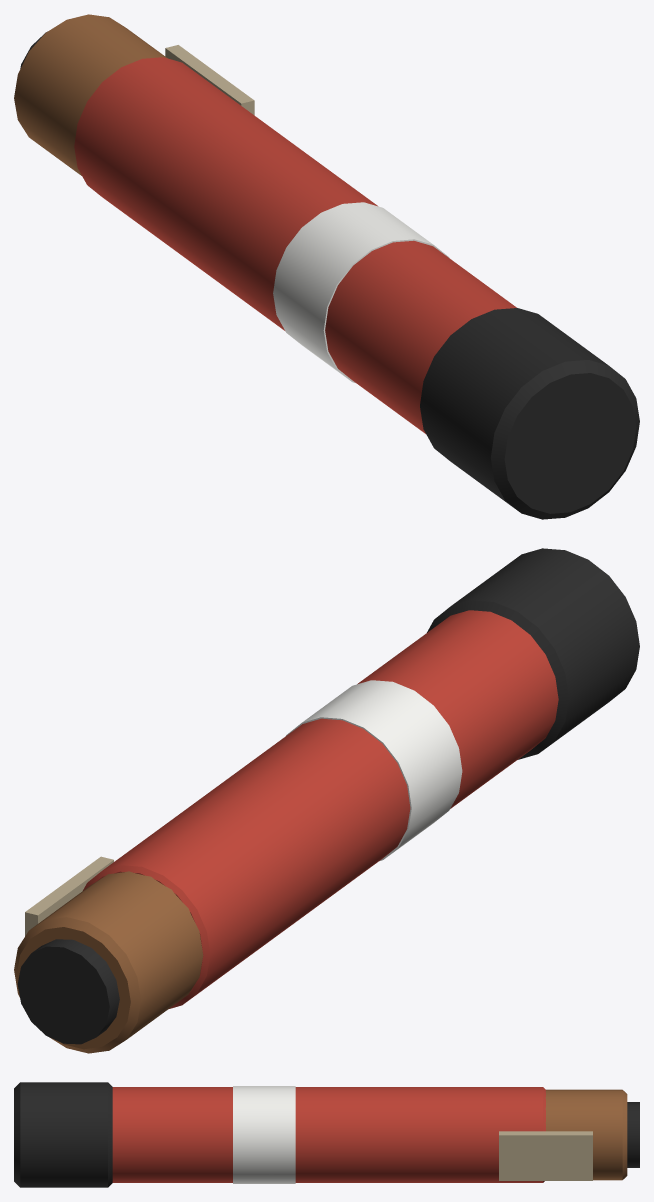
Rendered from signal_flare.glb.
3 renders of one model, top to bottom at view 1: azimuth 30°, elevation 25°; view 2: azimuth 150°, elevation 25°; view 3: azimuth 270°, elevation 25°, orthographic. The views are drawn at different scales.
Parts seen in each view (by area): view 1: body; view 2: body; view 3: body.
Boxes of the visible parts, x1=… form: body: x1=14, y1=14, x2=639, y2=519; body: x1=14, y1=548, x2=639, y2=1053; body: x1=14, y1=1082, x2=639, y2=1187.
Size of the model in its own units: 0.0345 by 0.034 by 0.2.
